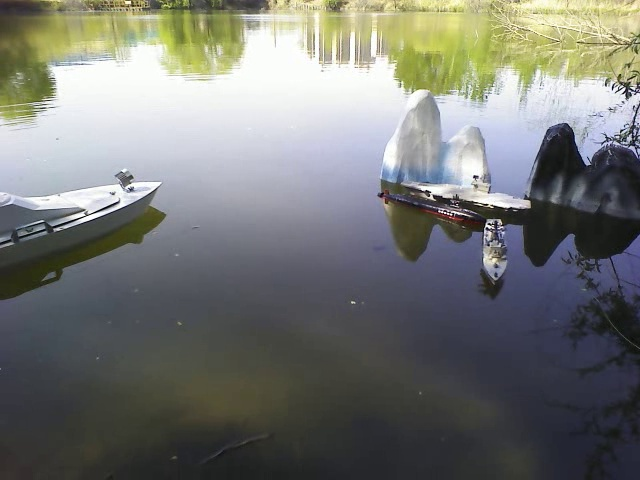aircraft_carrier: (398, 176, 537, 213)
boat: (3, 172, 167, 265)
iceberg: (379, 88, 502, 189)
rock: (529, 116, 637, 222)
submarine: (378, 191, 489, 232)
warship: (481, 218, 515, 287)
